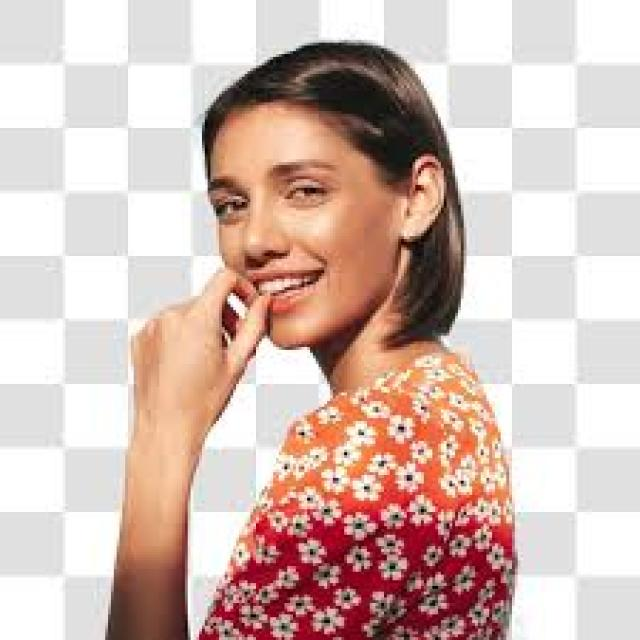Edited images: (88, 20, 546, 640)
